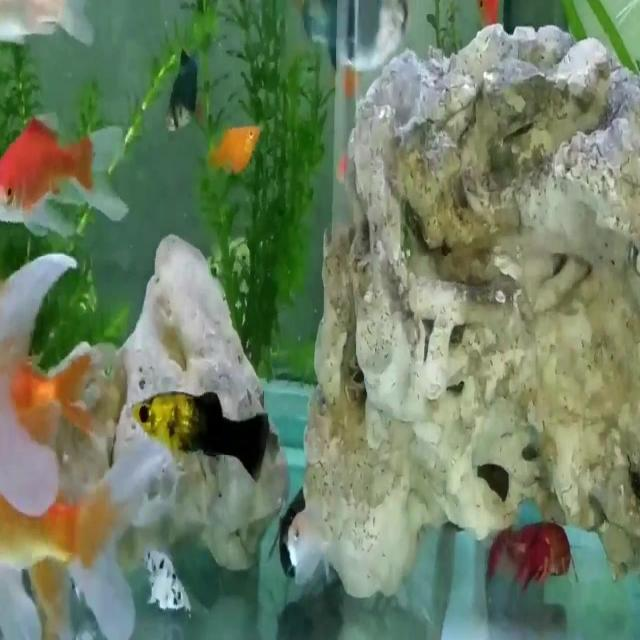GoldFish: (0, 91, 139, 249), (0, 491, 109, 601), (0, 338, 99, 454)
